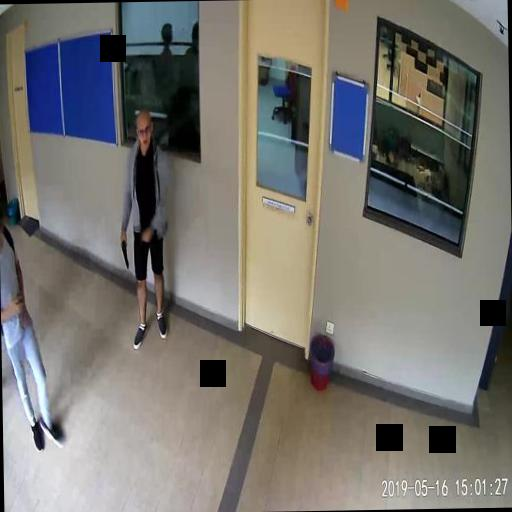Handgun: (118, 234, 128, 268)
